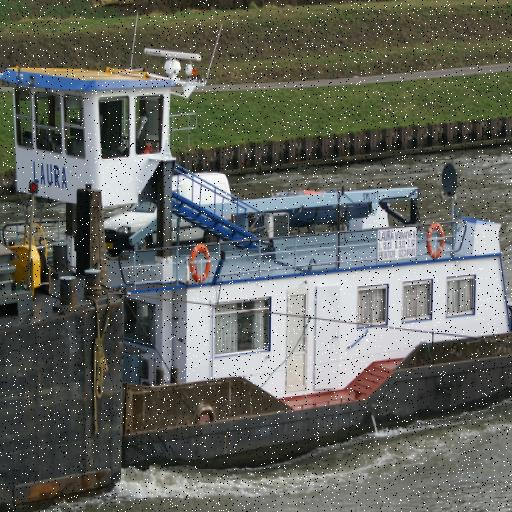tugboat: (1, 10, 512, 495)
